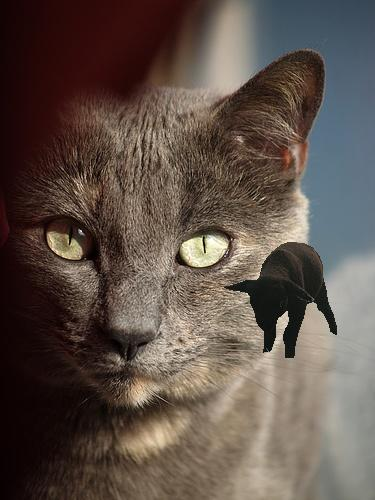tampered: (225, 243, 337, 358)
